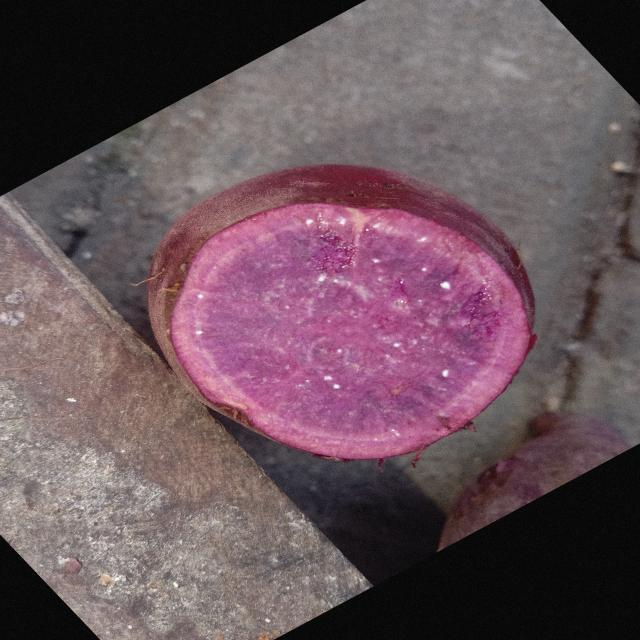Healthy Sweet Potato: (170, 204, 532, 460)
